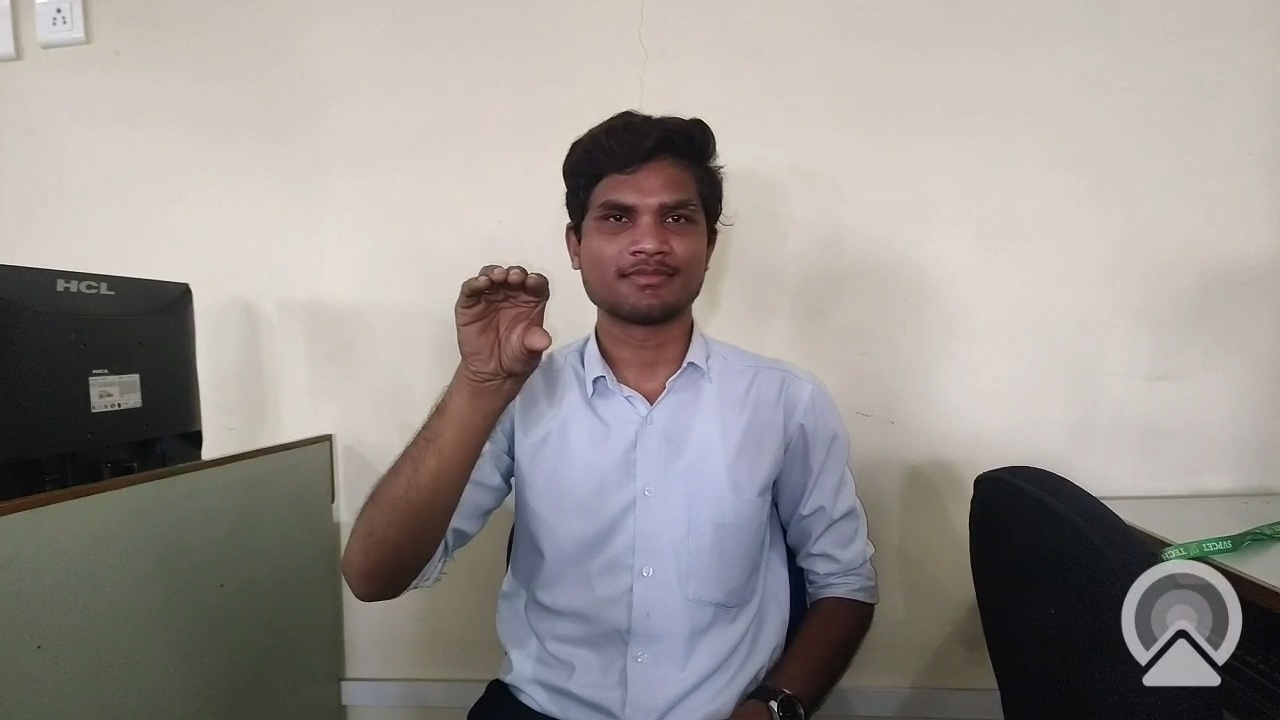No: (433, 242, 576, 415)
